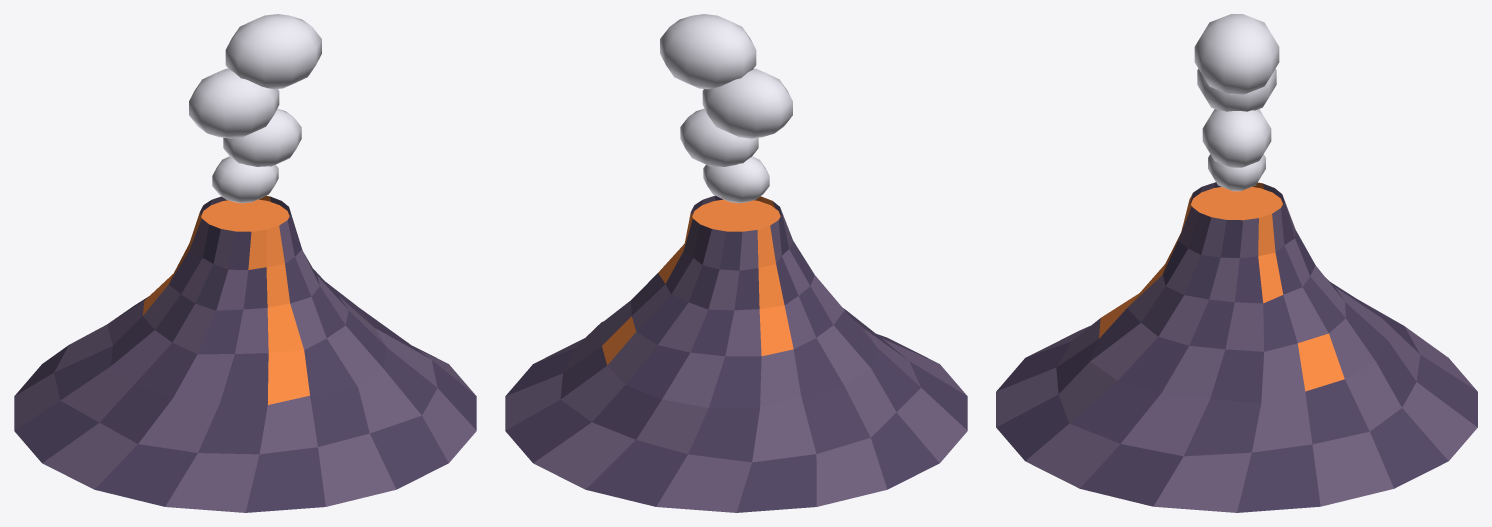
Rendered from Volcano.fbx.
3 renders of one model, left to right at view 1: azimuth 30°, elevation 25°; view 2: azimuth 150°, elevation 25°; view 3: azimuth 270°, elevation 25°, orthographic. The views are drawn at different scales.
Parts seen in each view (by area): view 1: Volcano; view 2: Volcano; view 3: Volcano.
Part boxes in pixels (x1,y1,x2,y2): Volcano: [14, 14, 476, 512]; Volcano: [505, 14, 967, 512]; Volcano: [996, 14, 1477, 512].
Bounding box in the file's own units: 72 × 65.6 × 70.91.
Materials: 1 (1 with a texture image).
